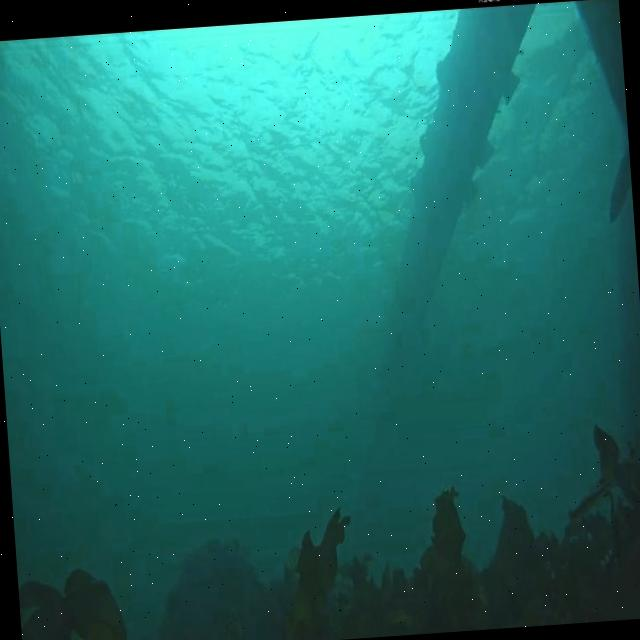fish: (602, 150, 634, 226), (567, 482, 612, 522)
